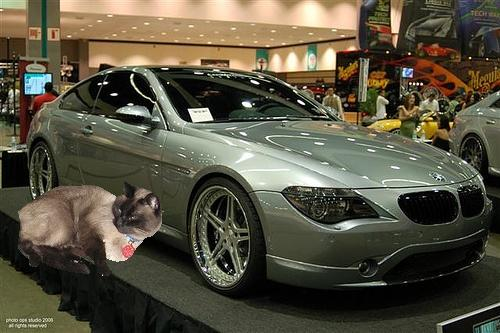tampered: (19, 182, 162, 276)
